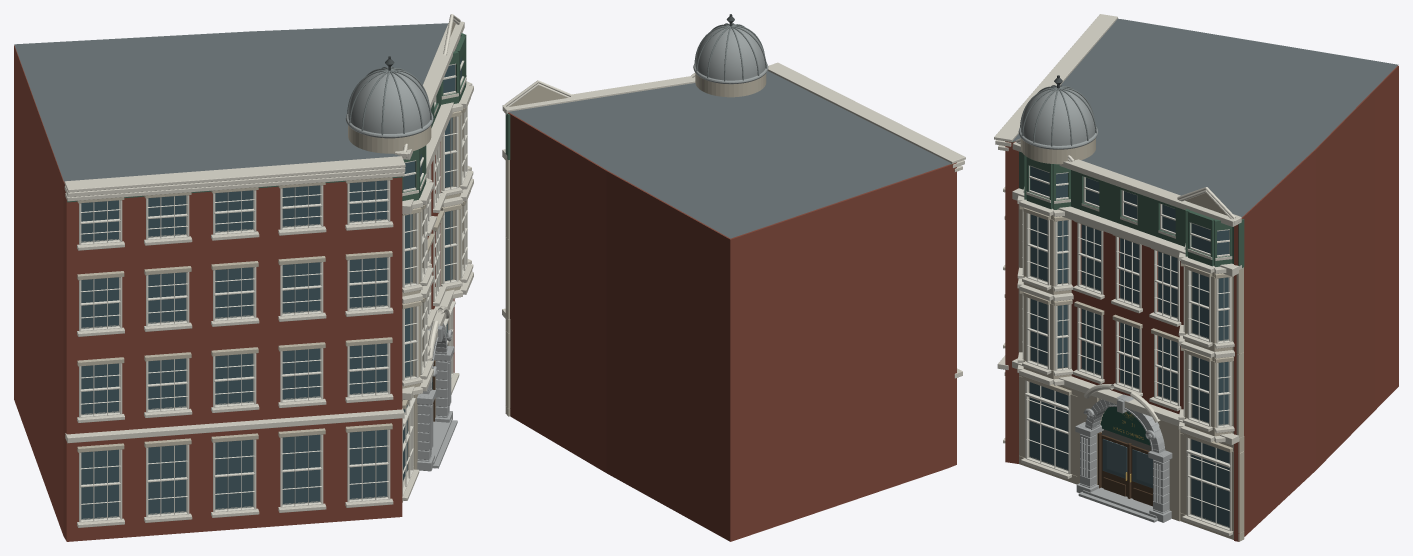
The model's file is kgs-exterior-483f388f827d.glb.
3 renders of one model, left to right at view 1: azimuth 30°, elevation 25°; view 2: azimuth 150°, elevation 25°; view 3: azimuth 270°, elevation 25°, orthographic. The views are drawn at different scales.
Parts seen in each view (by area): view 1: KGS.001; view 2: KGS.001; view 3: KGS.001.
Part boxes in pixels (x1=…): KGS.001: x1=14, y1=14, x2=473, y2=541; KGS.001: x1=502, y1=14, x2=965, y2=541; KGS.001: x1=994, y1=14, x2=1398, y2=541.
Size of the model in its own units: 21.13 by 18.66 by 17.38.
